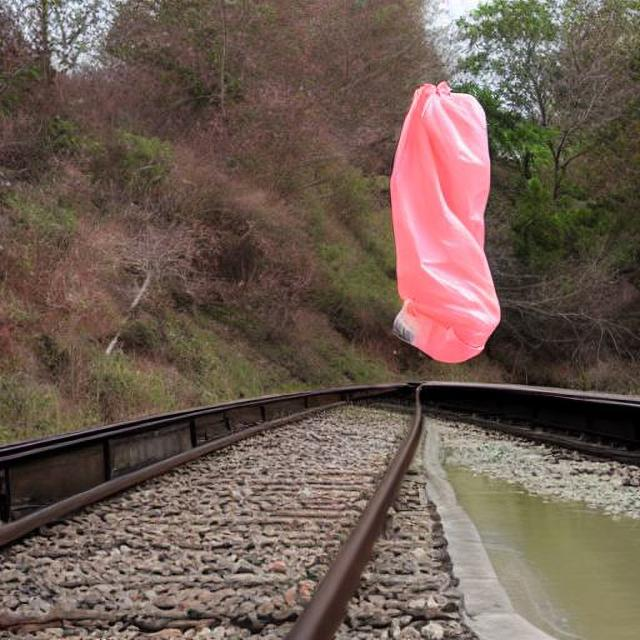floating object: (386, 79, 500, 362)
